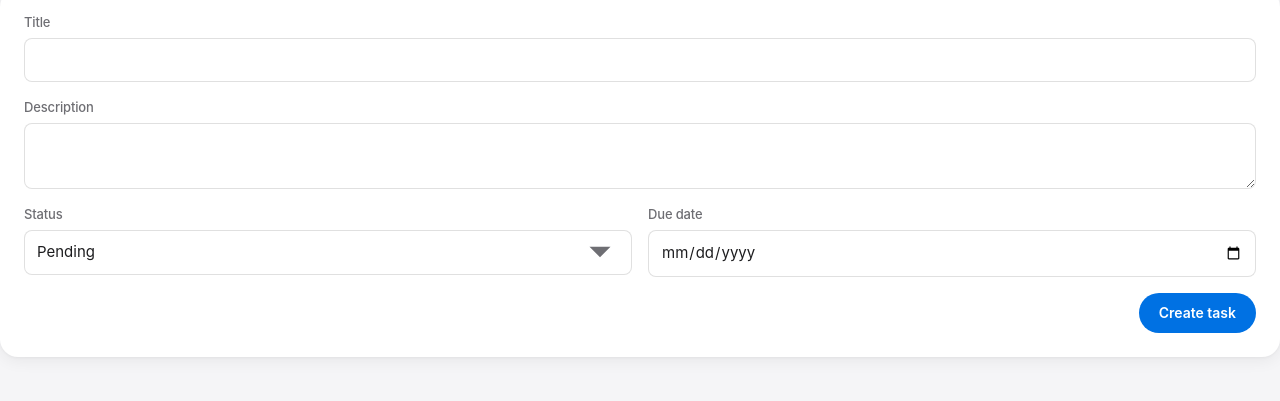
Test: TaskForm › shows a validation error and does not submit when title is empty
Click the button "Create task". click: (1197, 313)
box: left=1139, top=292, right=1256, bottom=333
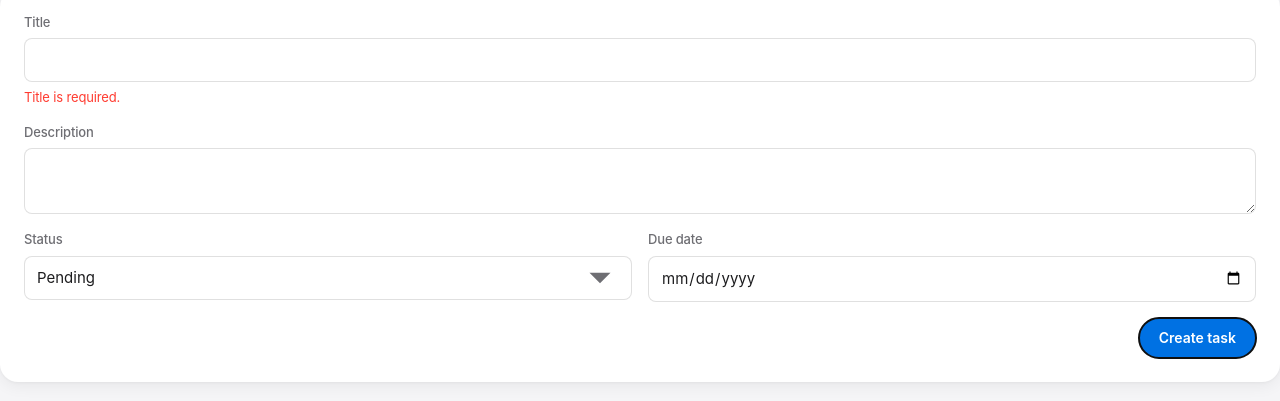
Check: the text "Title is required." is shown, box left=24, top=89, right=120, bottom=105
